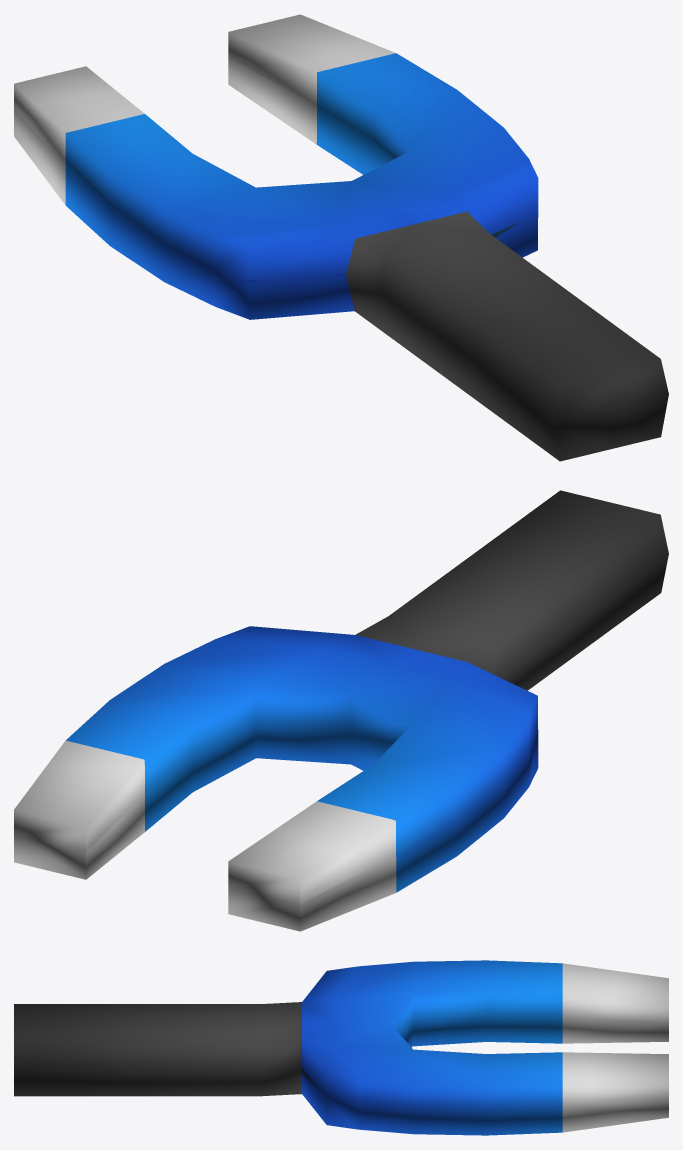
Rendered from BLUE MAGNET.fbx.
3 renders of one model, top to bottom at view 1: azimuth 30°, elevation 25°; view 2: azimuth 150°, elevation 25°; view 3: azimuth 270°, elevation 25°, orthographic. The views are drawn at different scales.
Visible parts, largest first — view 1: BLUE_MAGNET; view 2: BLUE_MAGNET; view 3: BLUE_MAGNET.
Part boxes in pixels (box(x1,y1,x2,y2)): BLUE_MAGNET: box(14, 14, 668, 461); BLUE_MAGNET: box(14, 490, 668, 931); BLUE_MAGNET: box(14, 960, 668, 1135).
Bounding box in the file's own units: 2.6 × 0.5639 × 5.88.
1 material, 1 textured.
